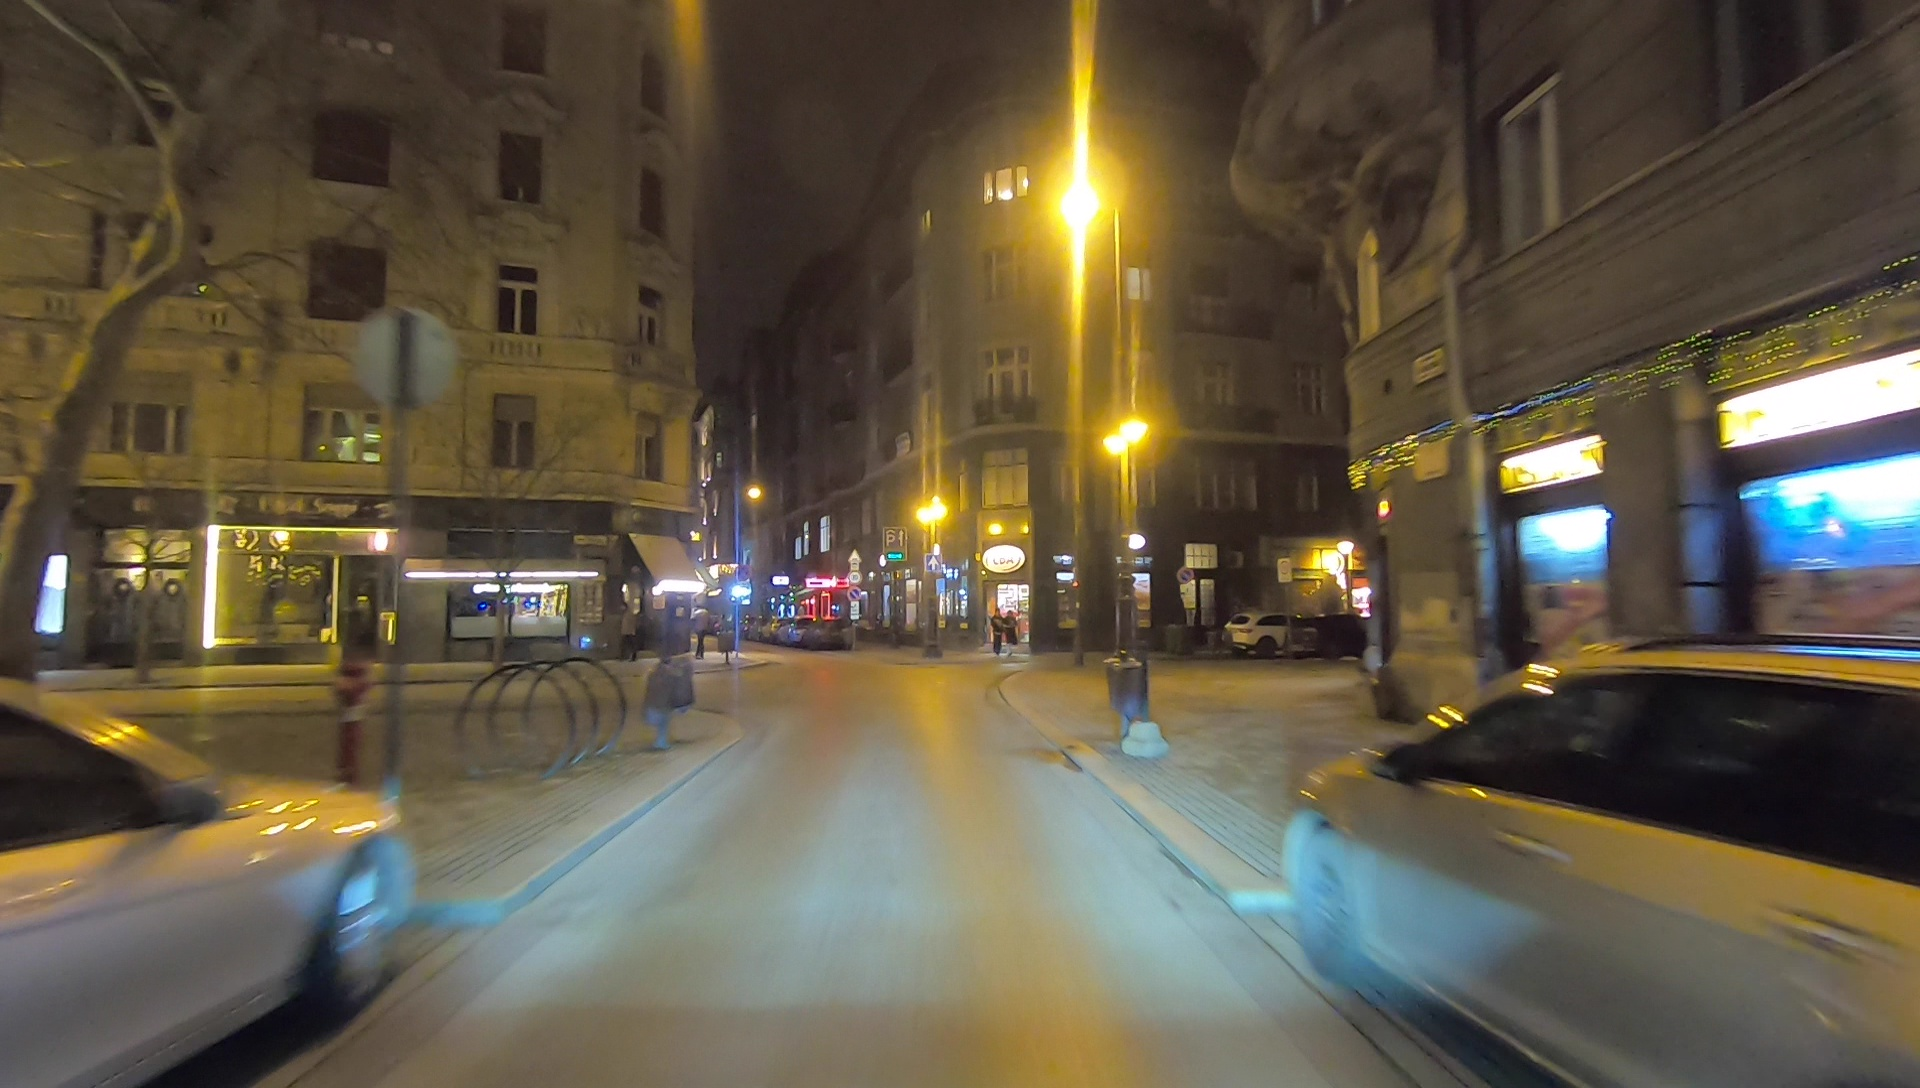person: (621, 604, 639, 661), (691, 602, 708, 656), (1002, 606, 1017, 654), (991, 610, 1004, 661)
